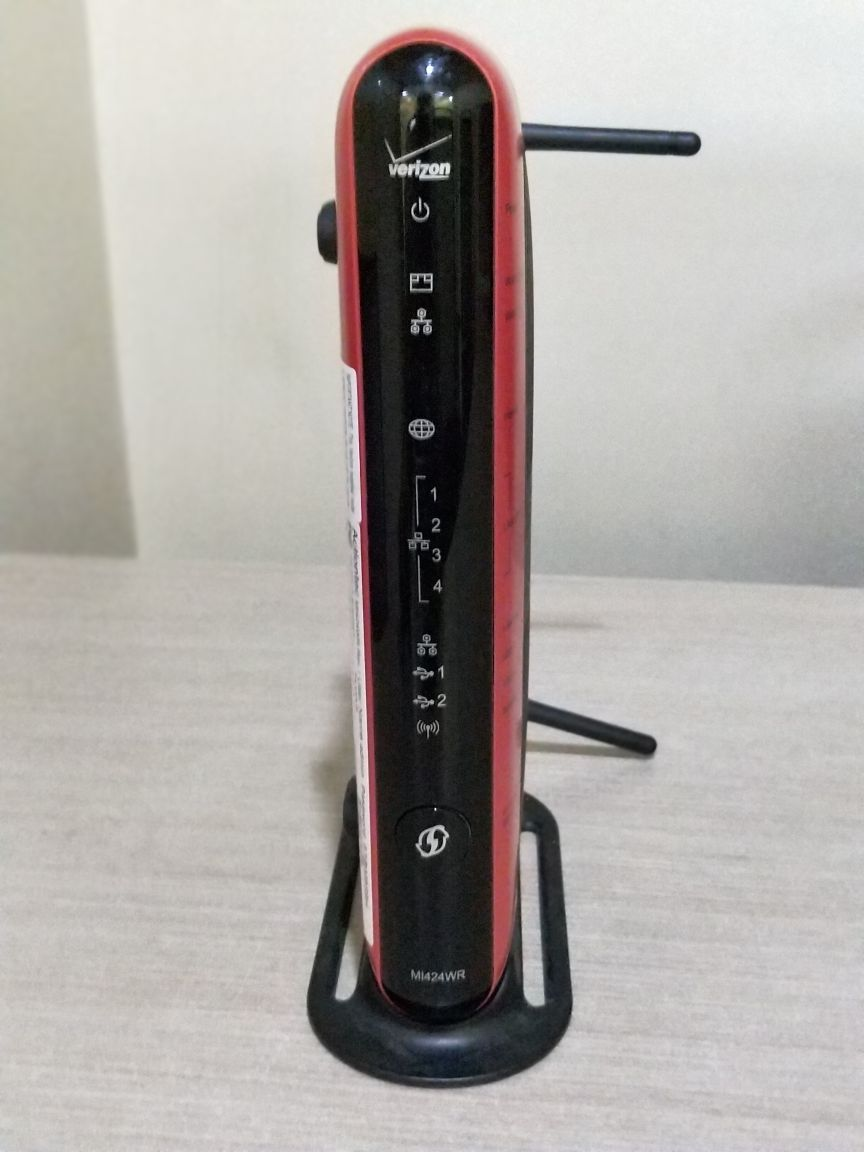Verizon Router: (243, 9, 736, 1121)
